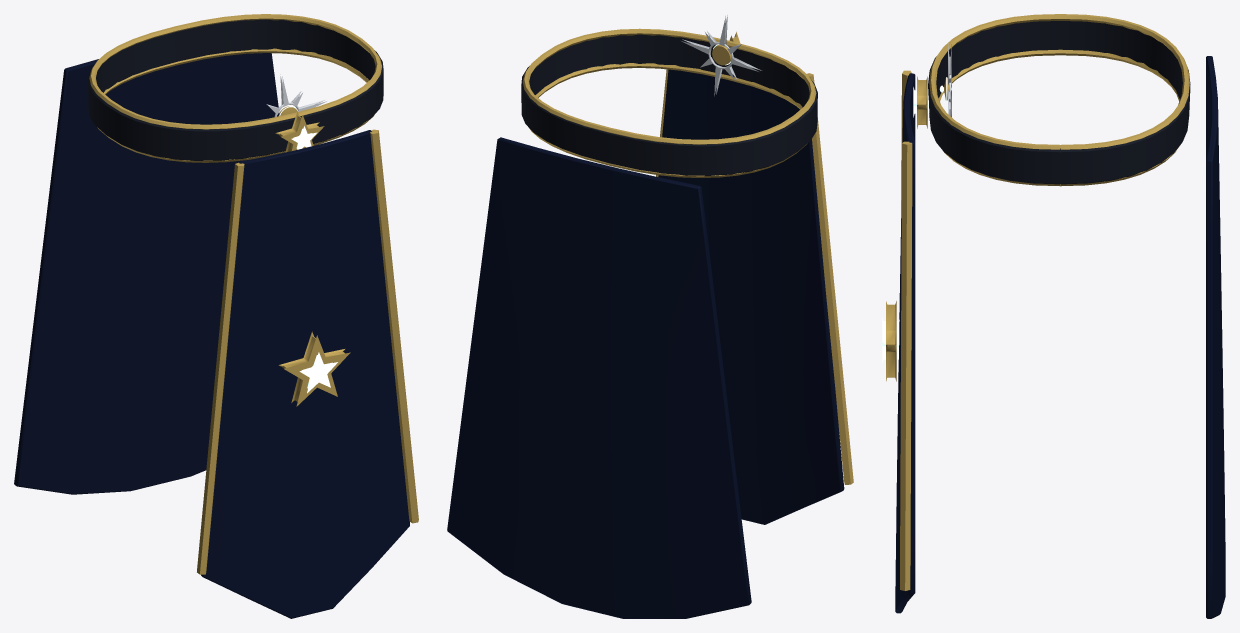
Rendered from esc_unmade_sky_sage_inner.glb.
The picture shows the model from 3 angles, left to right: view 1: azimuth 30°, elevation 25°; view 2: azimuth 150°, elevation 25°; view 3: azimuth 270°, elevation 25°; orthographic projection. The views are drawn at different scales.
Parts seen in each view (by area): view 1: esc_unmade_sky_sage_inner; view 2: esc_unmade_sky_sage_inner; view 3: esc_unmade_sky_sage_inner.
Boxes of the visible parts, x1=… form: esc_unmade_sky_sage_inner: x1=14, y1=14, x2=418, y2=618; esc_unmade_sky_sage_inner: x1=447, y1=15, x2=853, y2=618; esc_unmade_sky_sage_inner: x1=882, y1=14, x2=1225, y2=618.
Bounding box in the file's own units: 0.5401 × 0.8917 × 0.4972.
